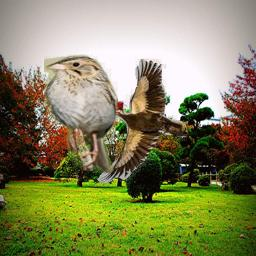Sparrow: (44, 54, 118, 173)
Woodpecker: (97, 58, 189, 184)
